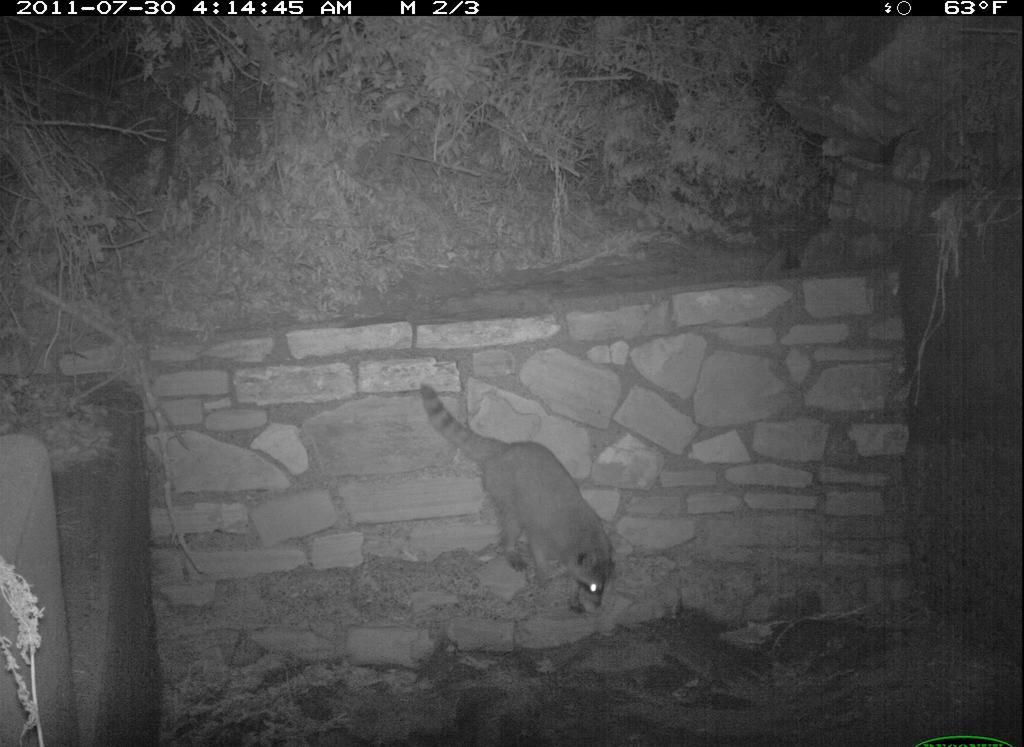raccoon: (411, 377, 635, 628)
